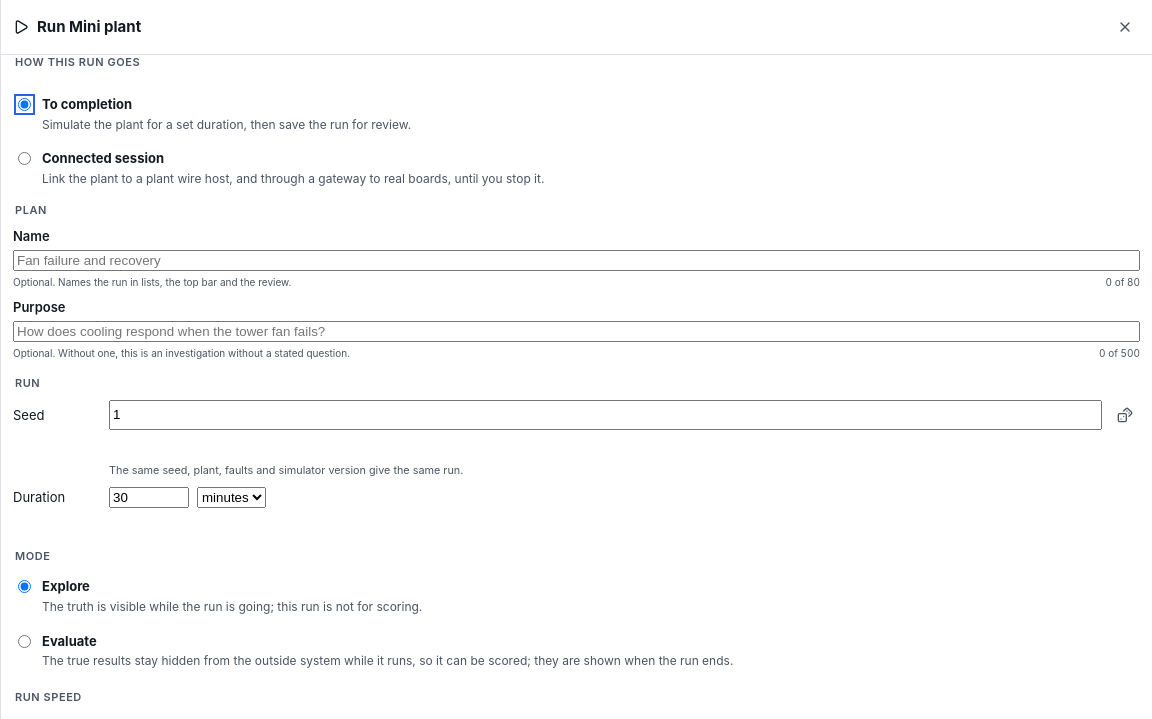
the result of a check › keeps the other issues of the plan listed beside the marked field
Click the radio button labelled "Connected session". click: point(24, 159)
box: [18,152,31,165]
(page scrolled)
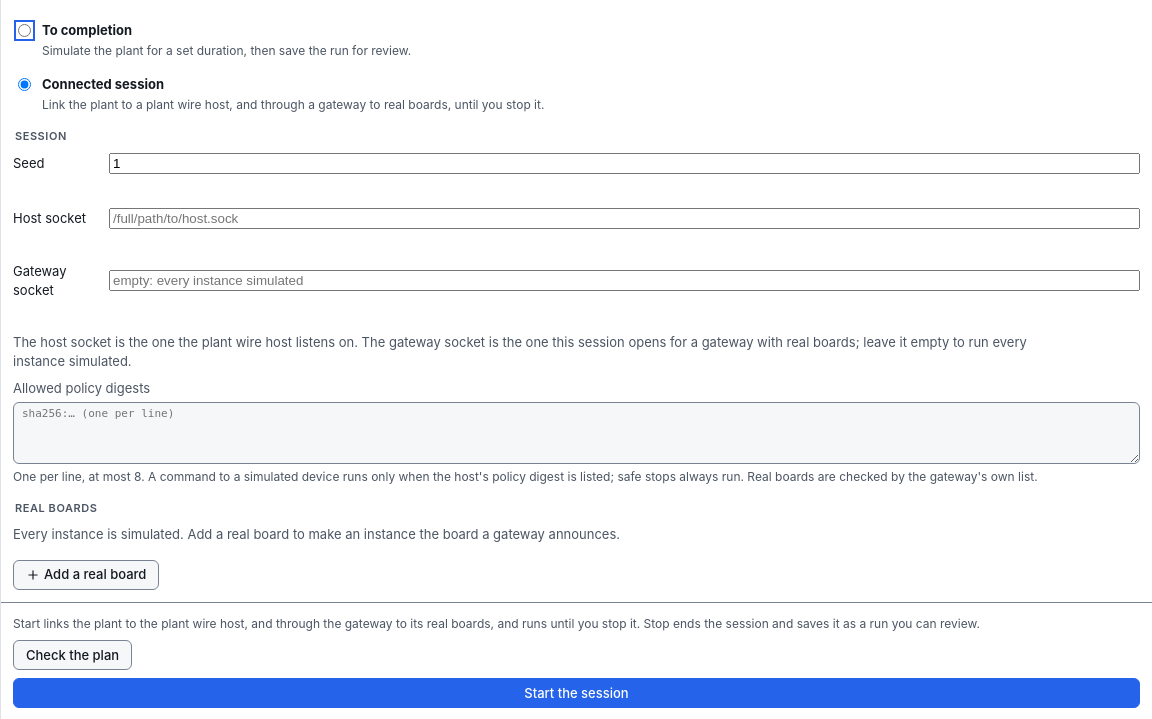
Click the button "Check the plan". click: point(73, 655)
box: [13,640,132,670]
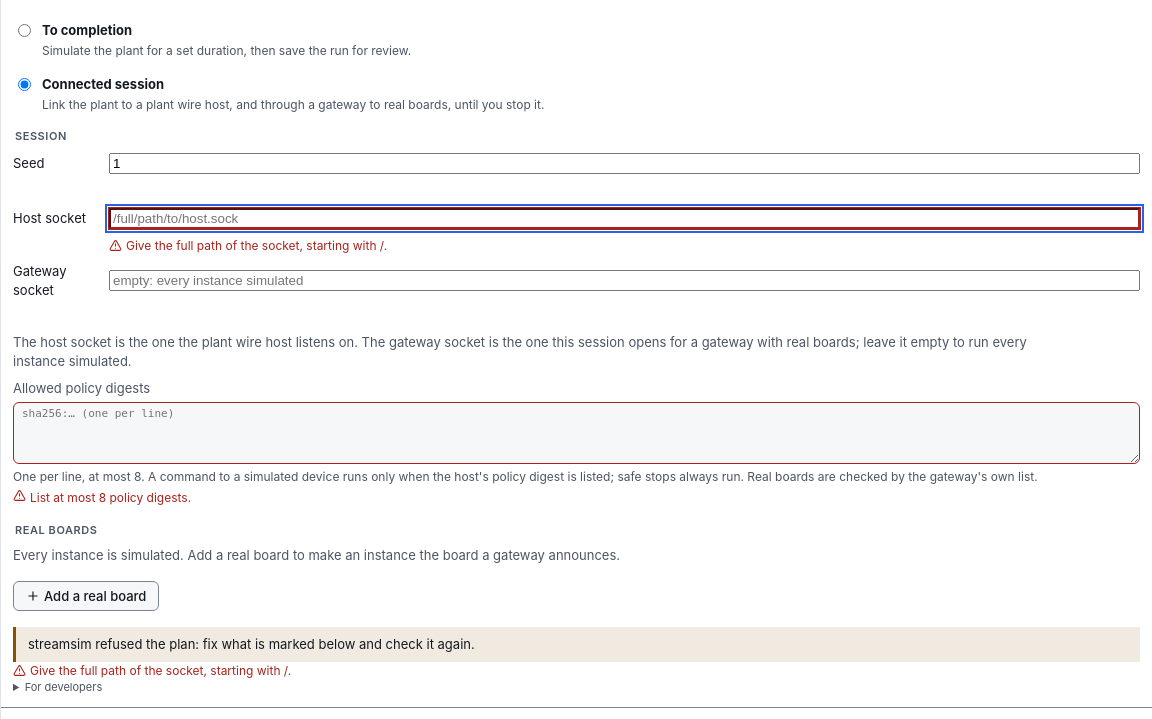
expect the message shows "fix what is marked below": met, box [28,636,475,652]
expect the number of list items is 1: met, box [13,663,291,678]
